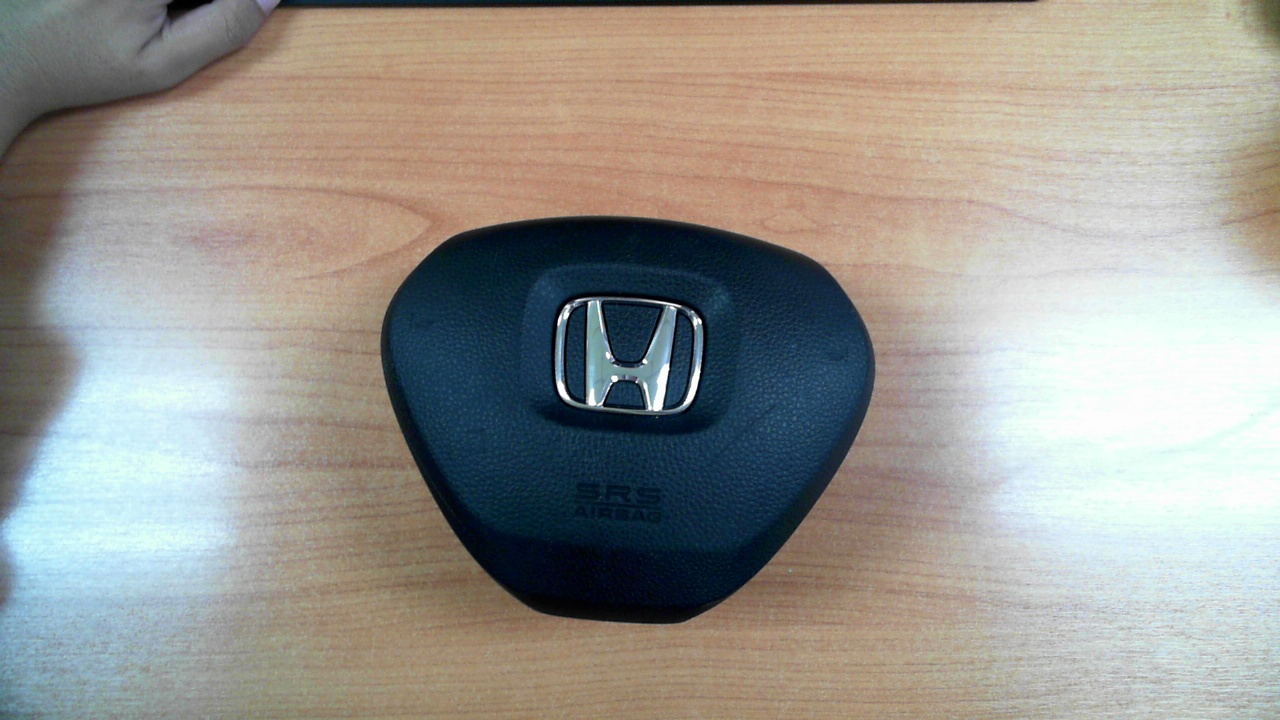Airbag: (379, 216, 877, 624)
Honda: (554, 296, 704, 416)
